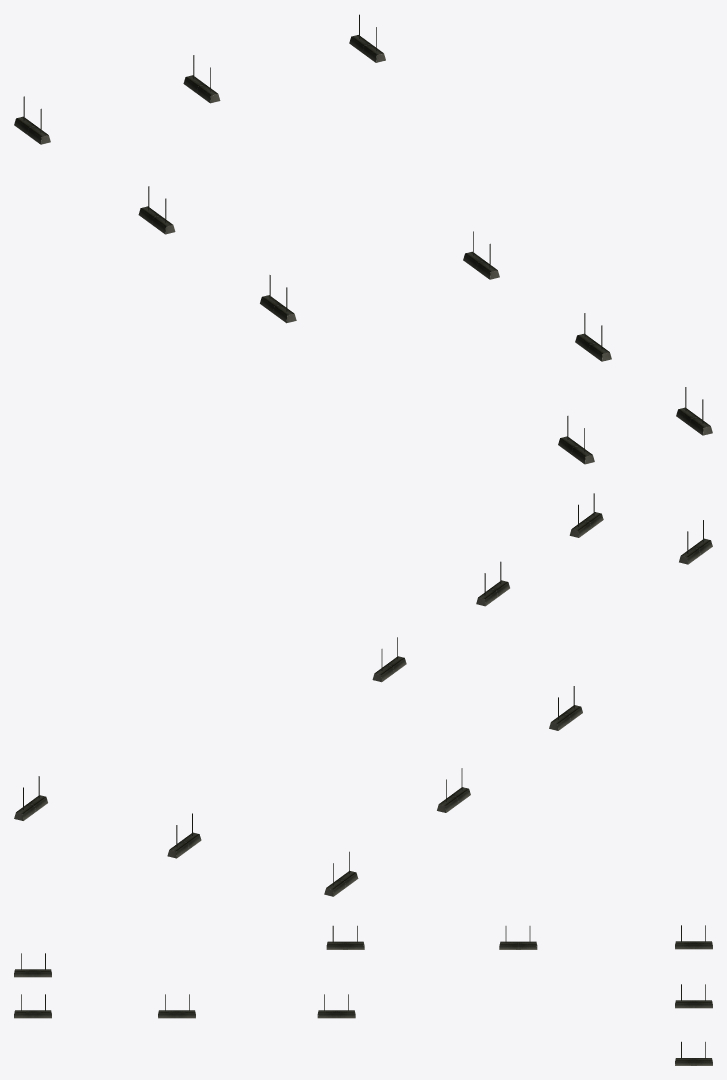
Rendered from carter-light15b.obj.
3 views of the same model, one above another, from view 1: azimuth 30°, elevation 25°; view 2: azimuth 150°, elevation 25°; view 3: azimuth 270°, elevation 25° (orthographic). The views are drawn at different scales.
Parts seen in each view (by area): view 1: Carter-light15b; view 2: Carter-light15b; view 3: Carter-light15b.
Boxes of the visible parts, left/top/right/bottom form: Carter-light15b: left=14, top=14, right=712, bottom=464; Carter-light15b: left=14, top=493, right=712, bottom=896; Carter-light15b: left=14, top=925, right=712, bottom=1065.
Size of the model in its own units: 14.9 by 1.3 by 36.64.
